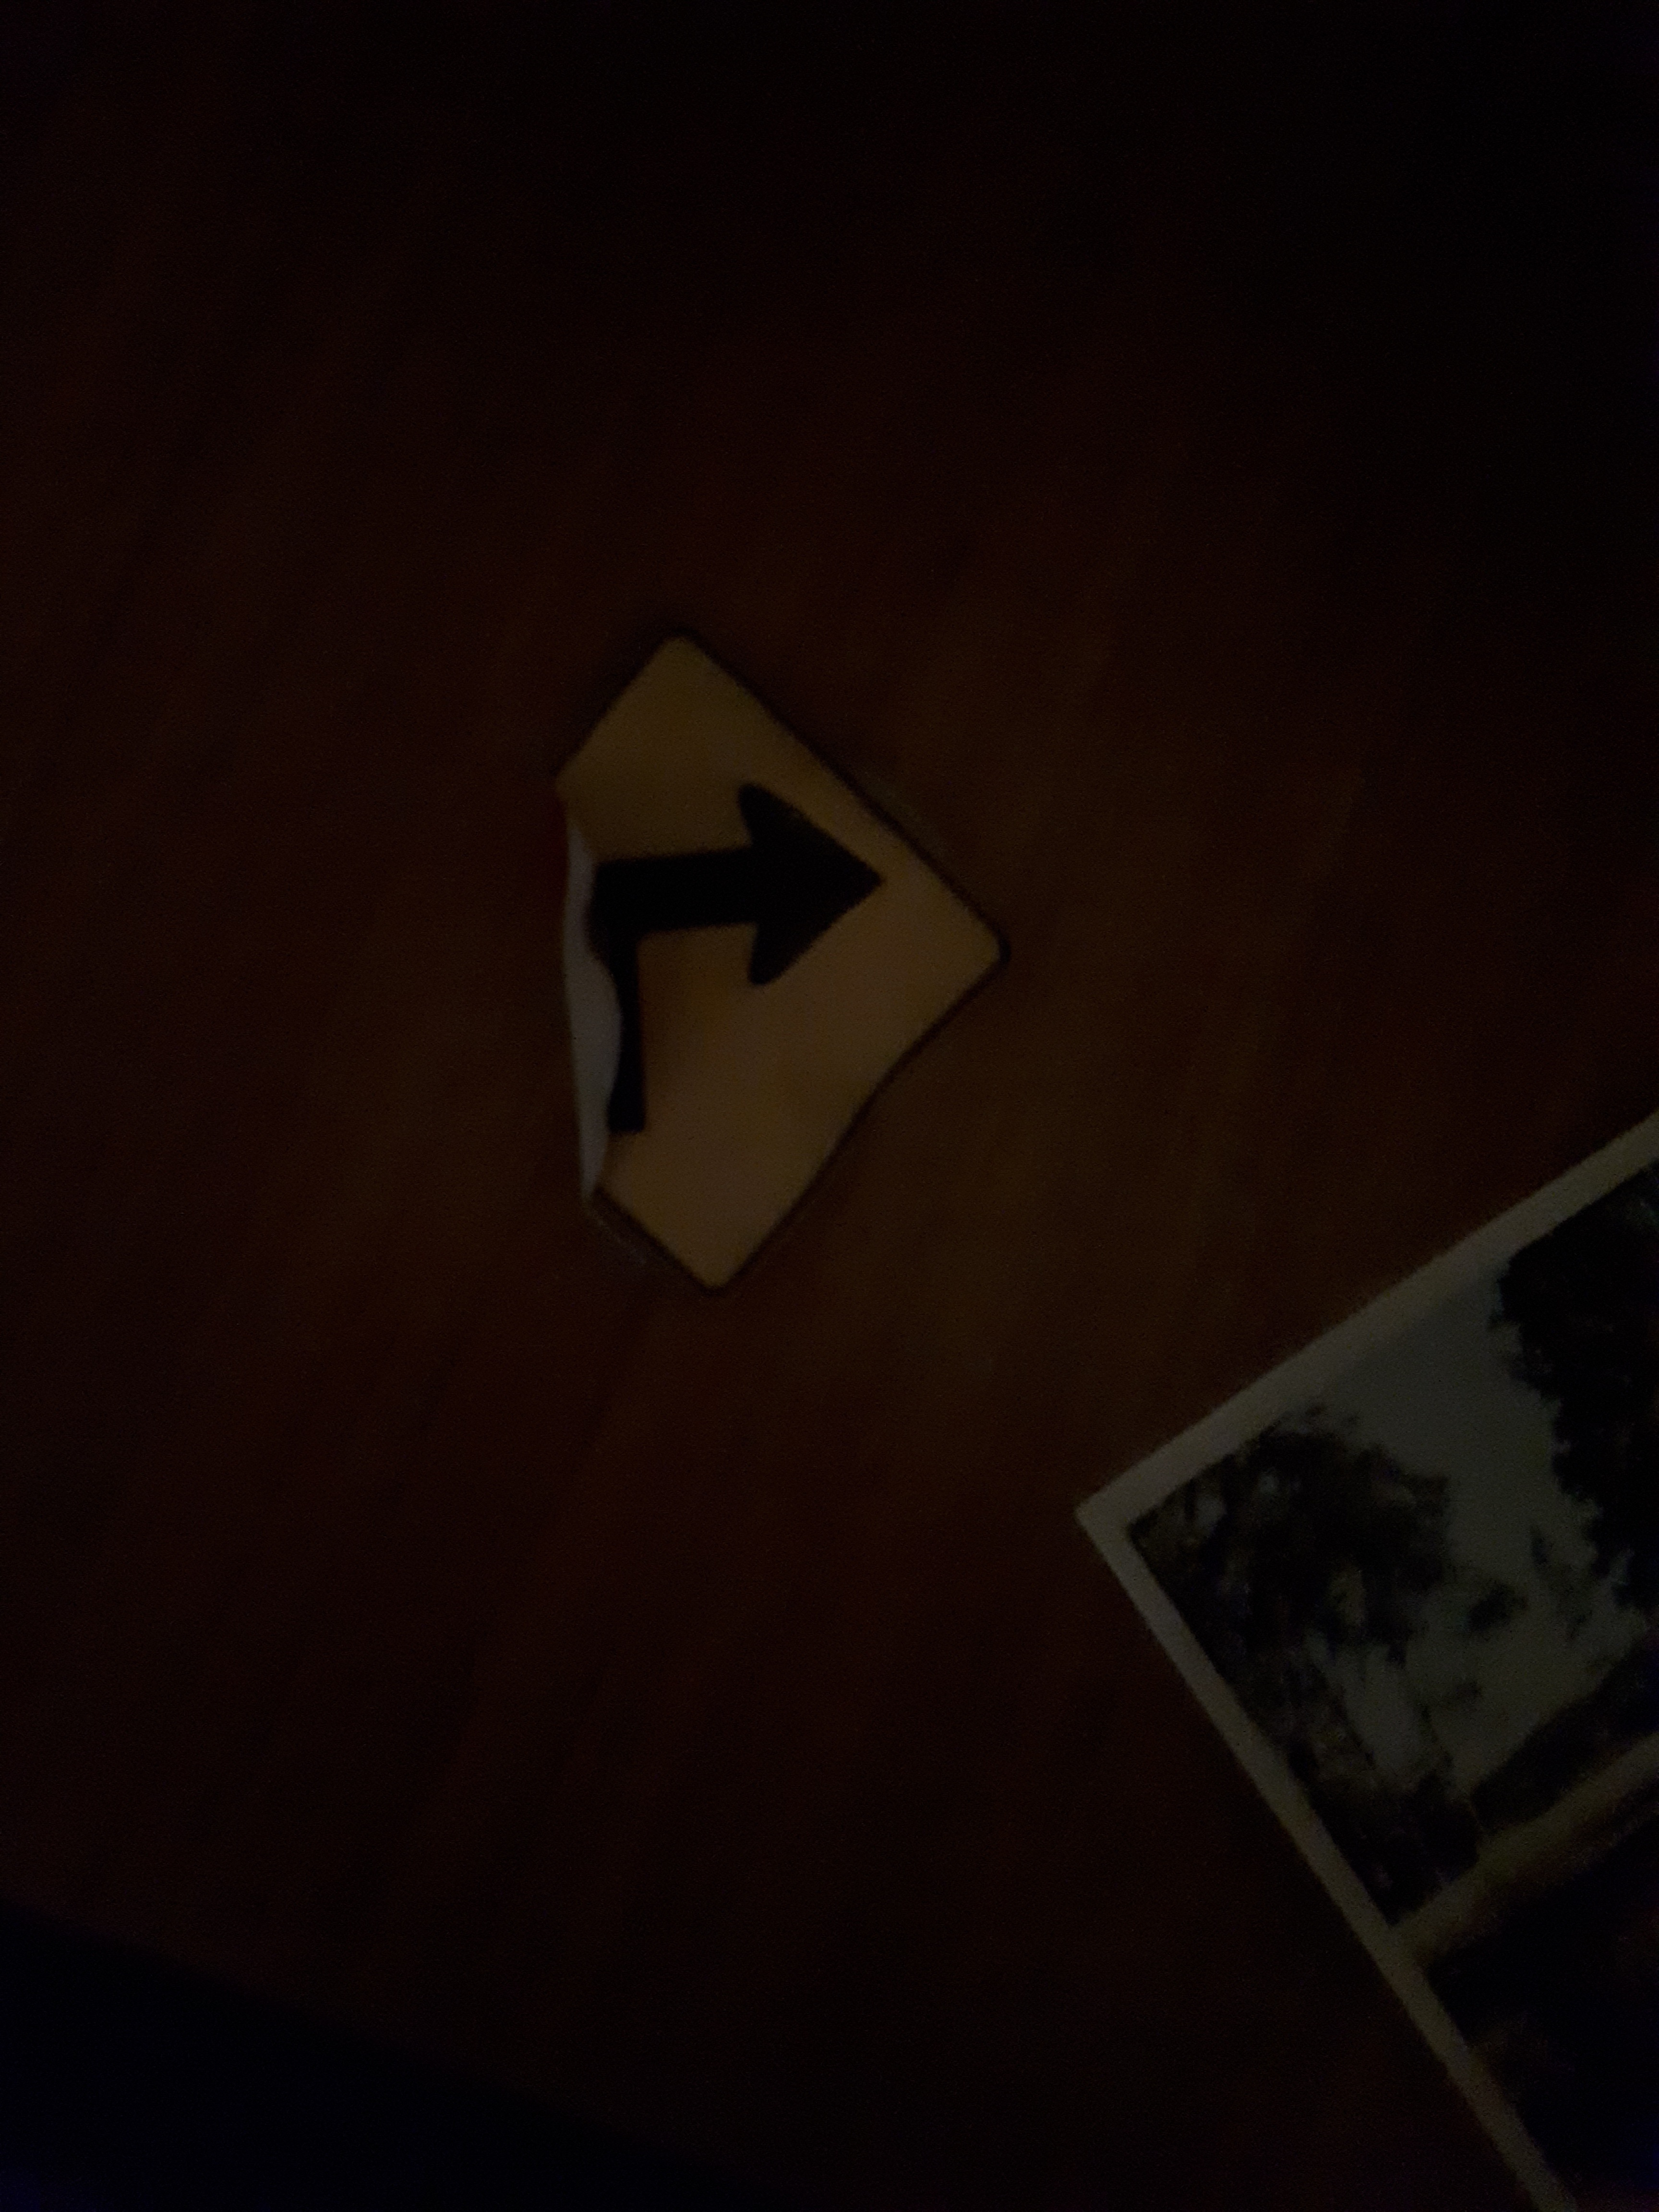right: (465, 678, 1054, 1305), (538, 784, 1011, 1163)
